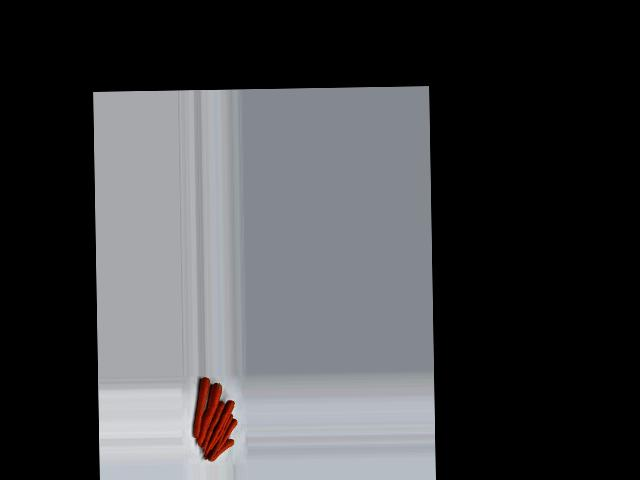carrot: (205, 440, 239, 463)
